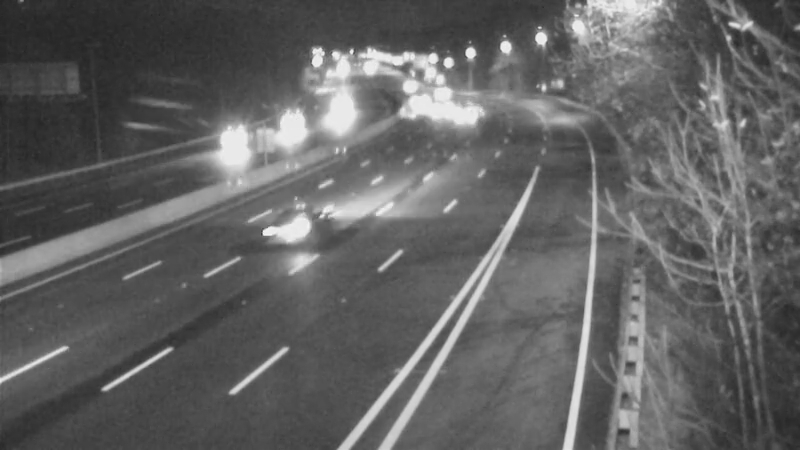vehicle: (230, 188, 310, 268), (402, 80, 452, 130), (435, 89, 485, 139), (232, 122, 282, 172), (267, 105, 317, 155), (320, 83, 370, 133)
